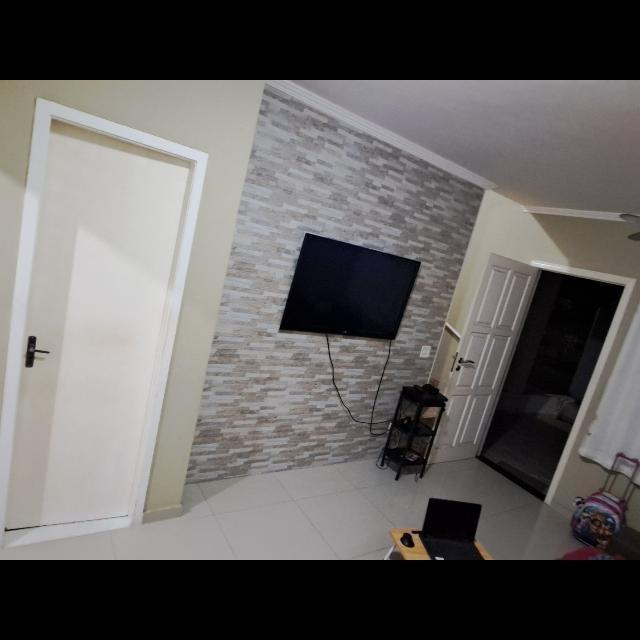door: (1, 95, 206, 545), (431, 248, 532, 468)
